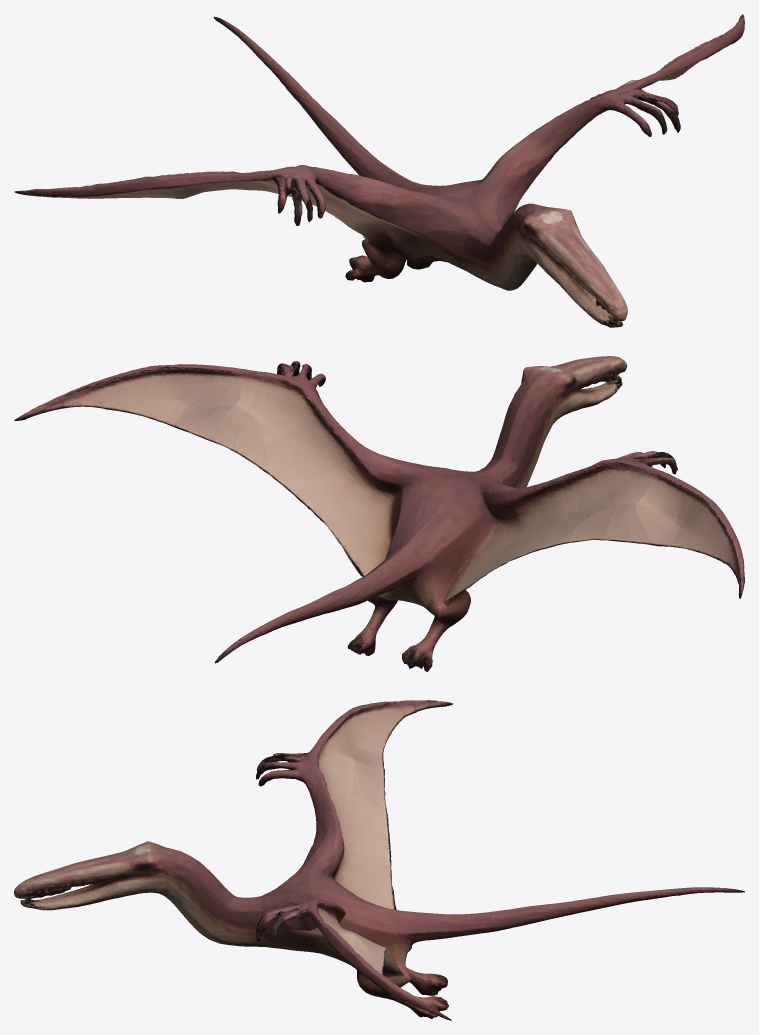
3 views of the same model, one above another, from view 1: azimuth 30°, elevation 25°; view 2: azimuth 150°, elevation 25°; view 3: azimuth 270°, elevation 25° (orthographic). The views are drawn at different scales.
Parts seen in each view (by area): view 1: world; view 2: world; view 3: world.
Part boxes in pixels (x1=…): world: x1=14, y1=14, x2=744, y2=327; world: x1=14, y1=356, x2=744, y2=671; world: x1=14, y1=700, x2=744, y2=1020.
Bounding box in the file's own units: 1 × 0.2598 × 0.9736.
Materials: 1 (1 with a texture image).
